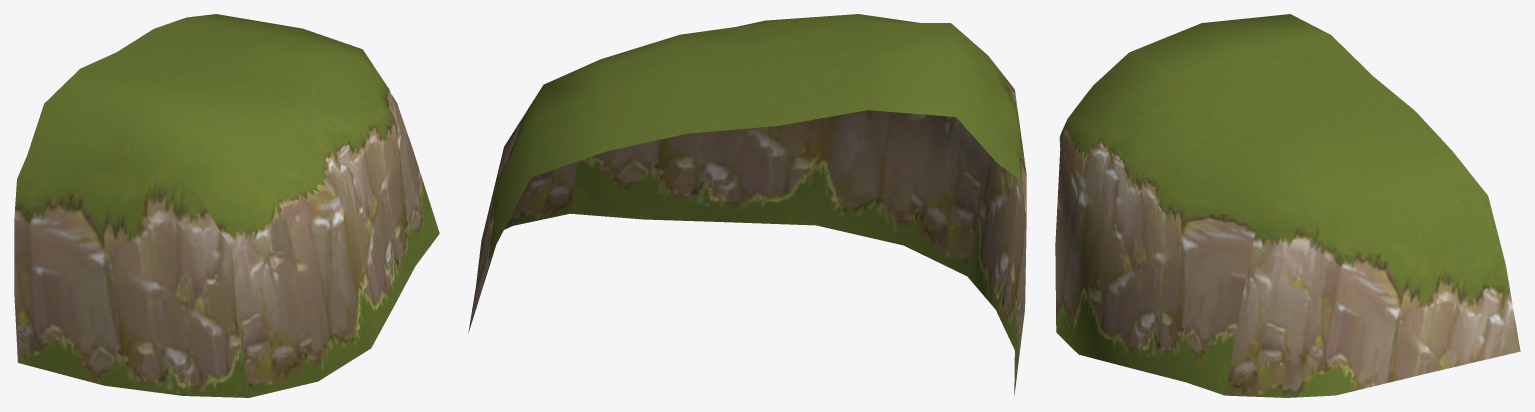
Rendered from gaoyuan_bianyuan_03 (17).fbx.
3 renders of one model, left to right at view 1: azimuth 30°, elevation 25°; view 2: azimuth 150°, elevation 25°; view 3: azimuth 270°, elevation 25°, orthographic. The views are drawn at different scales.
Visible parts, largest first — view 1: gaoyuan_bianyuan_03 (17); view 2: gaoyuan_bianyuan_03 (17); view 3: gaoyuan_bianyuan_03 (17).
Part boxes in pixels (x1=…): gaoyuan_bianyuan_03 (17): x1=14, y1=14, x2=439, y2=397; gaoyuan_bianyuan_03 (17): x1=468, y1=14, x2=1026, y2=395; gaoyuan_bianyuan_03 (17): x1=1055, y1=14, x2=1520, y2=397.
Bounding box in the file's own units: 24.11 × 13.62 × 21.99.
